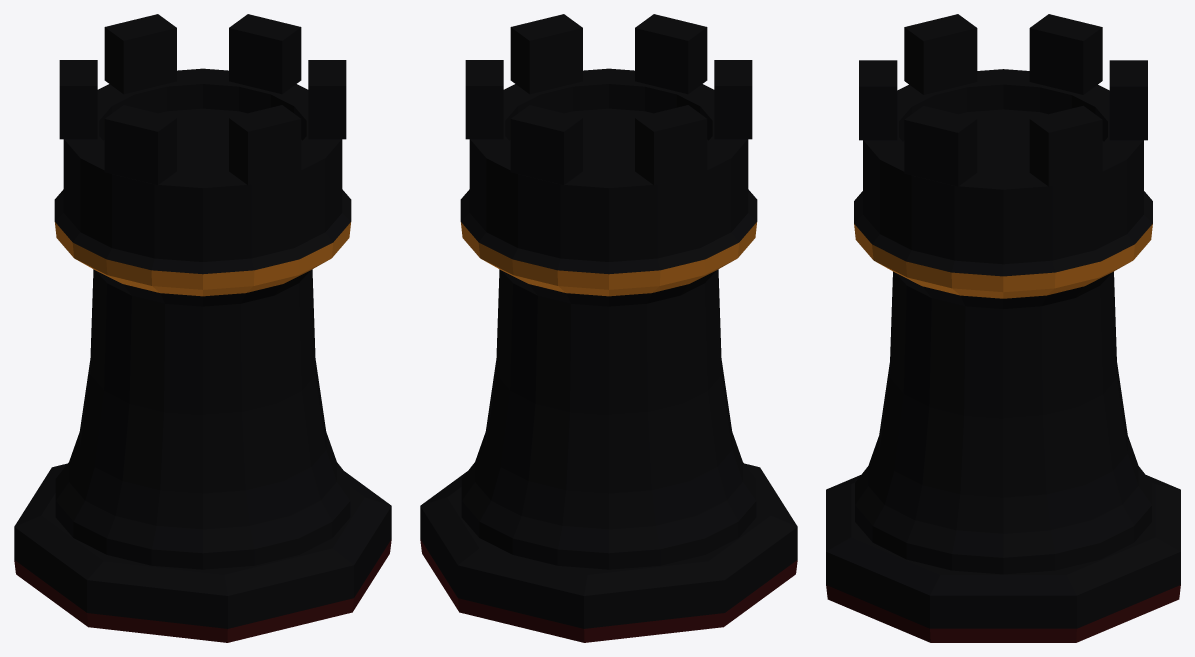
The model's file is cozy_chess_black_rook.obj.
The picture shows the model from 3 angles, left to right: view 1: azimuth 30°, elevation 25°; view 2: azimuth 150°, elevation 25°; view 3: azimuth 270°, elevation 25°; orthographic projection.
Visible parts, largest first — view 1: Chess_Black_Rook_Mesh; view 2: Chess_Black_Rook_Mesh; view 3: Chess_Black_Rook_Mesh.
Boxes of the visible parts, x1,y1,x2,y2 form: Chess_Black_Rook_Mesh: (14,14,391,642); Chess_Black_Rook_Mesh: (420,14,797,642); Chess_Black_Rook_Mesh: (826,14,1180,642).
Bounding box in the file's own units: 0.0407 × 0.0627 × 0.0407.
